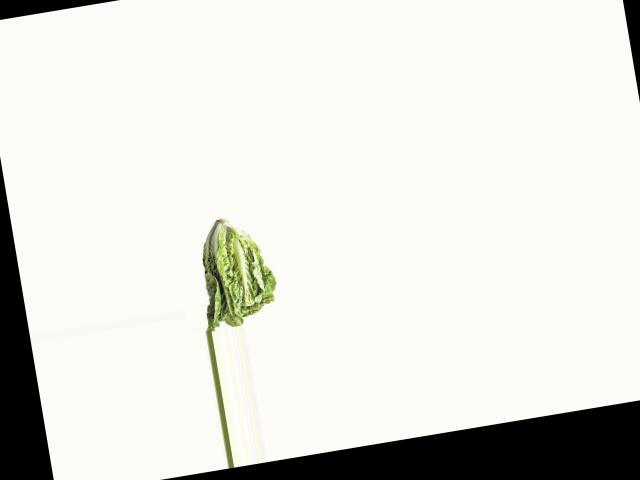lettuce: (191, 213, 286, 331)
